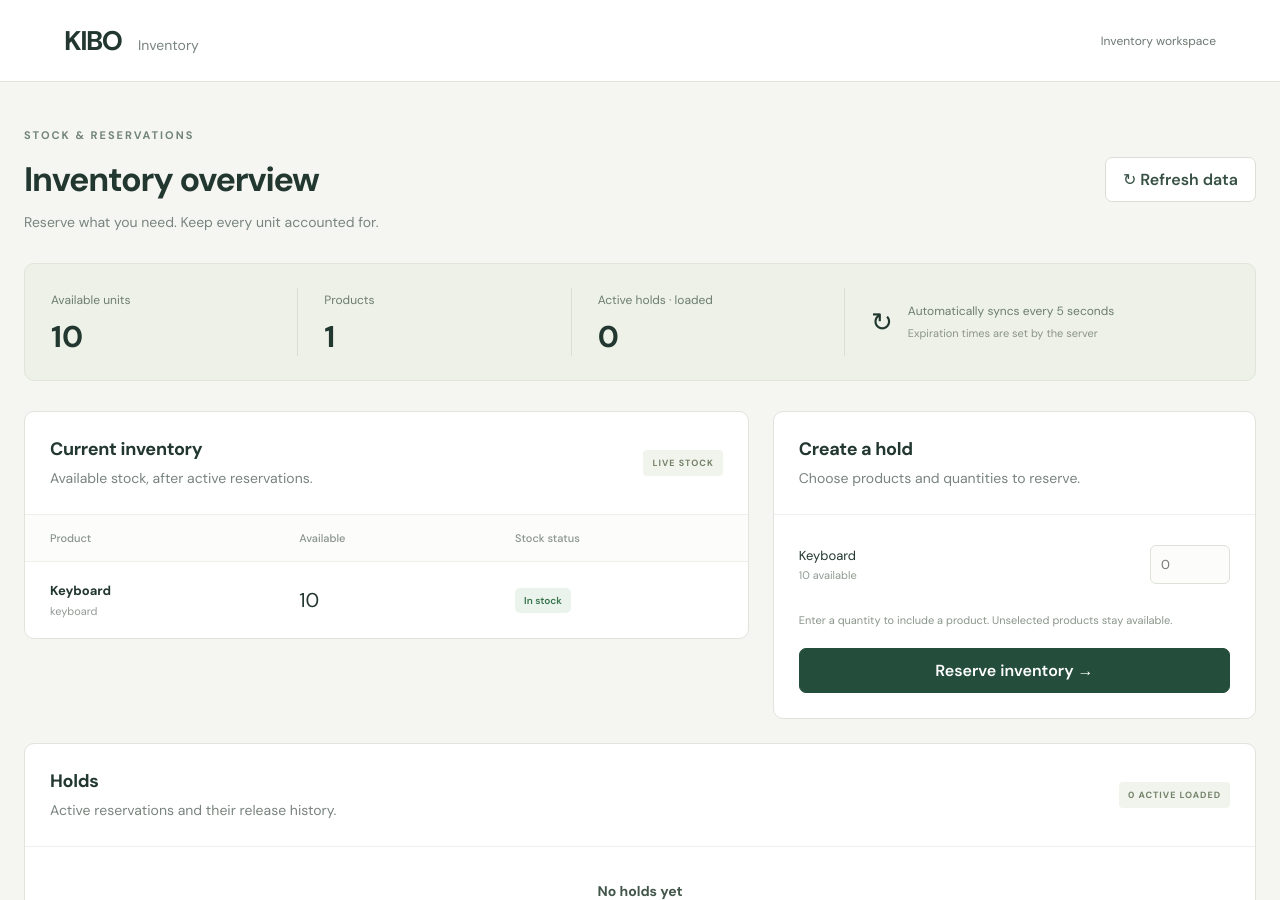
Test: inventory workflow › rejects an empty reservation without sending a mutation
This screenshot has width=1280, height=900.
Expected: the number field named "Quantity for Keyboard" is shown, [1150, 545, 1230, 584]
What coordinates should you click on to do the following:
click the button "Reserve inventory →"
I would click on:
 (1014, 670)
Its box is [799, 648, 1230, 693].
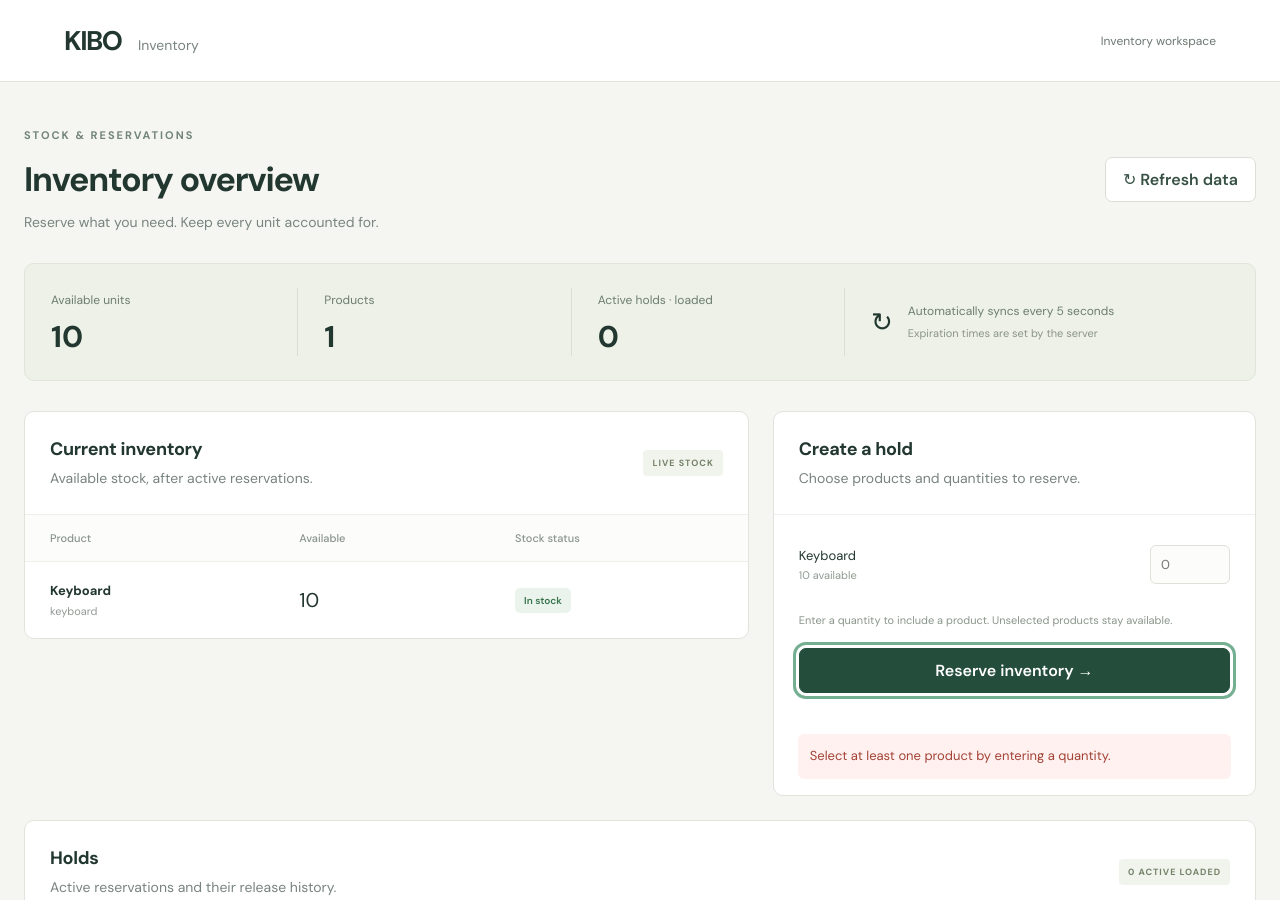
Now the message shows "Select at least one product", box [810, 747, 1111, 764]
